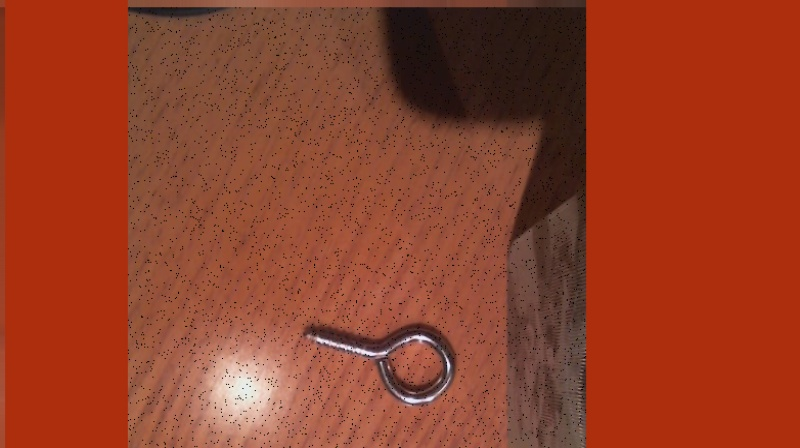O001: (300, 318, 457, 410)
